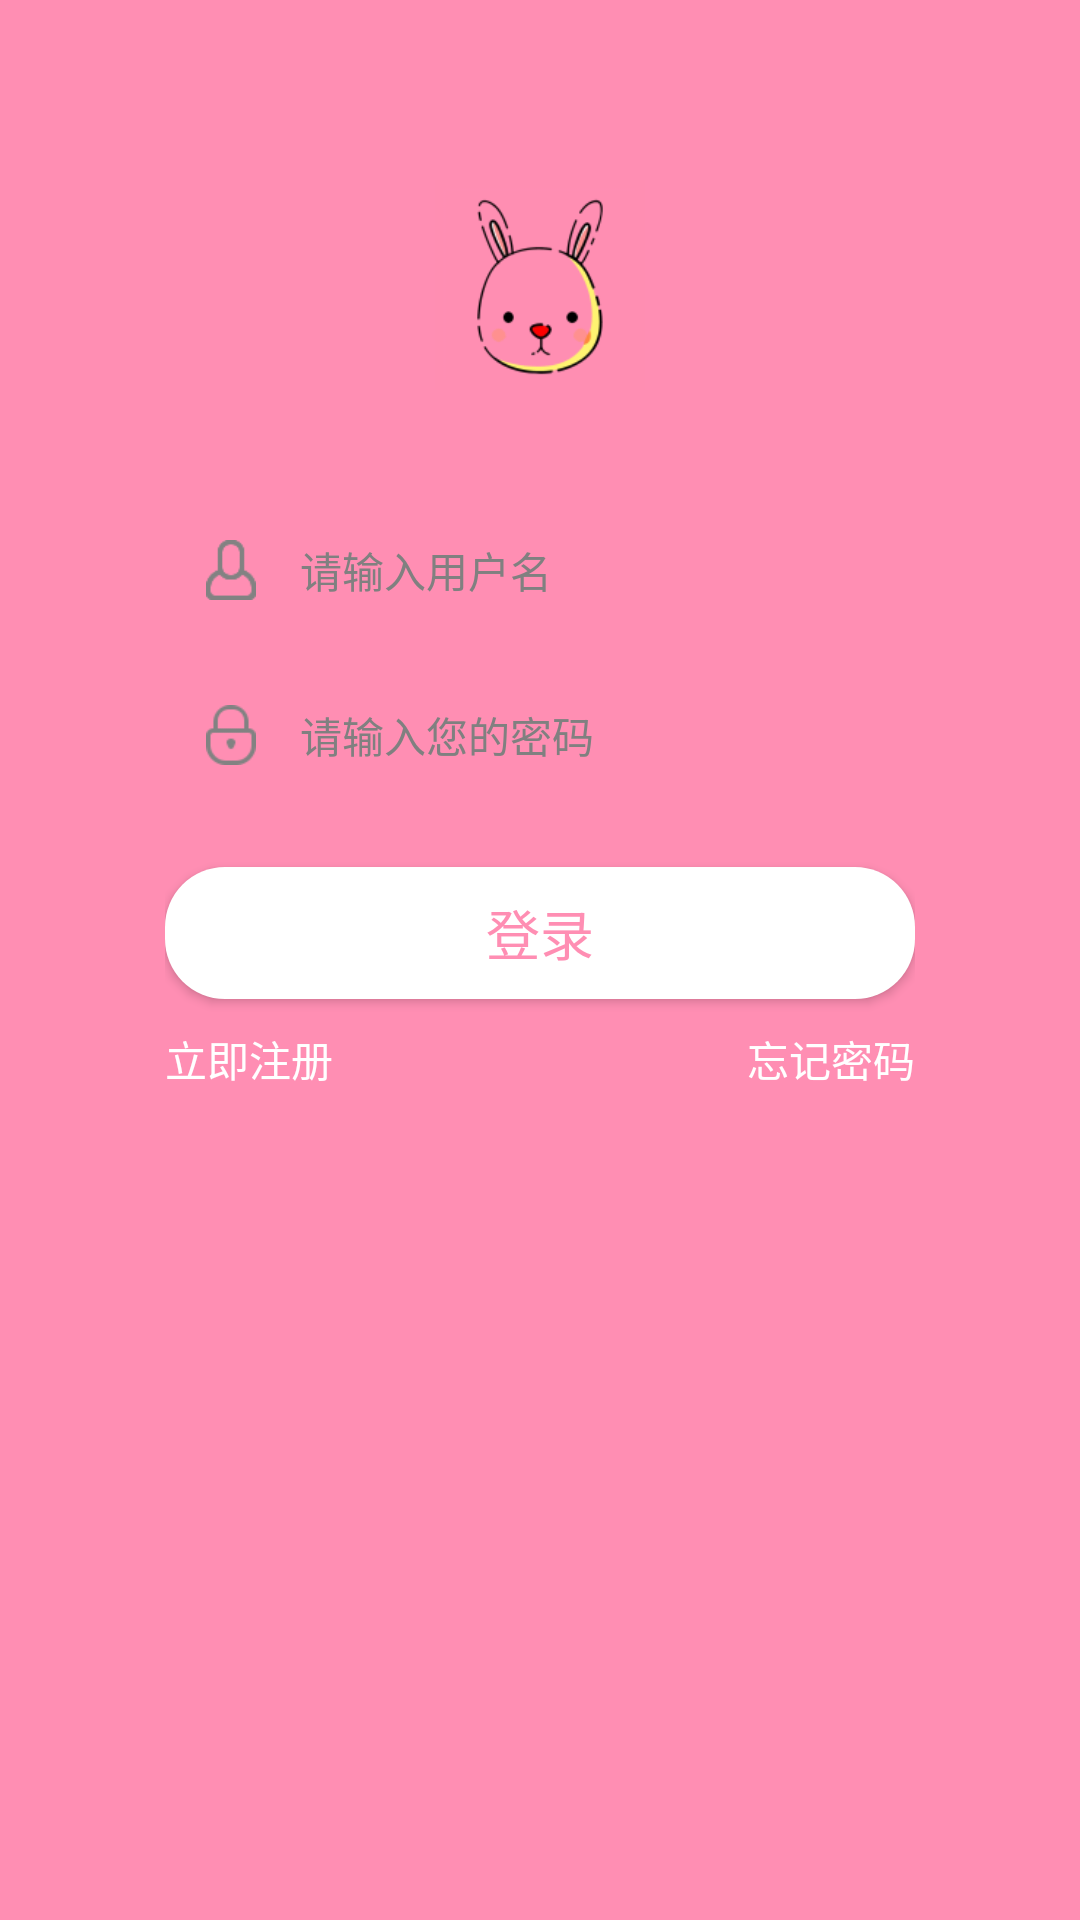

Icons on this 1080px x 1920px Android screen, each with the point to tap as (x,y):
login account number: (231,570)
login password: (231,735)
